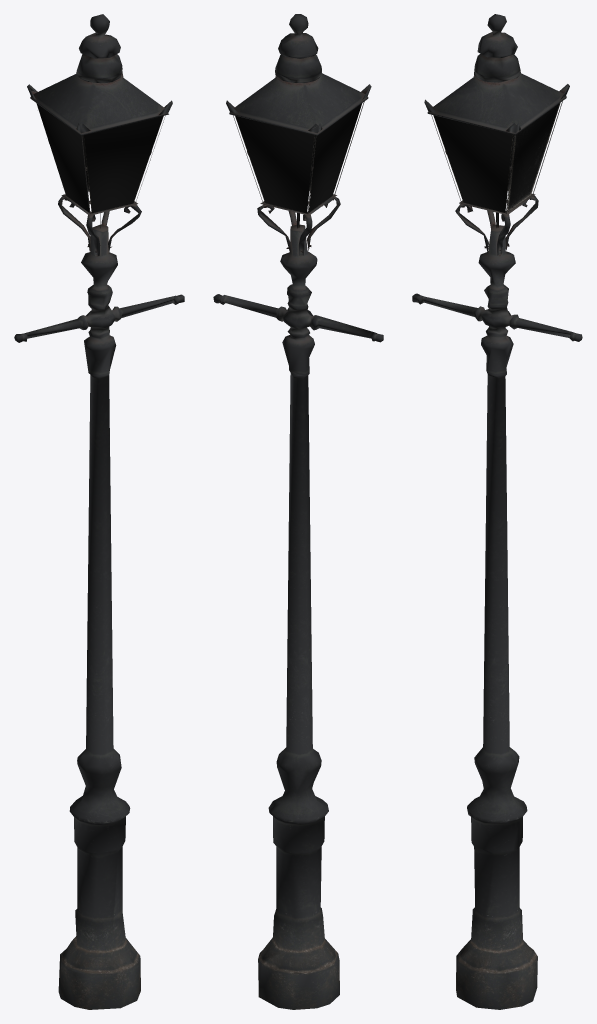
Rendered from street_lamp_01.glb.
3 renders of one model, left to right at view 1: azimuth 30°, elevation 25°; view 2: azimuth 150°, elevation 25°; view 3: azimuth 330°, elevation 25°, orthographic.
Visible parts, largest first — view 1: street_lamp_01; view 2: street_lamp_01; view 3: street_lamp_01.
Part boxes in pixels (<box>): street_lamp_01: <box>14,14,184,1009</box>; street_lamp_01: <box>213,14,383,1009</box>; street_lamp_01: <box>412,14,582,1009</box>.
Size of the model in its own units: 0.7022 by 3.87 by 0.3862.
Materials: 3 (3 with a texture image).
